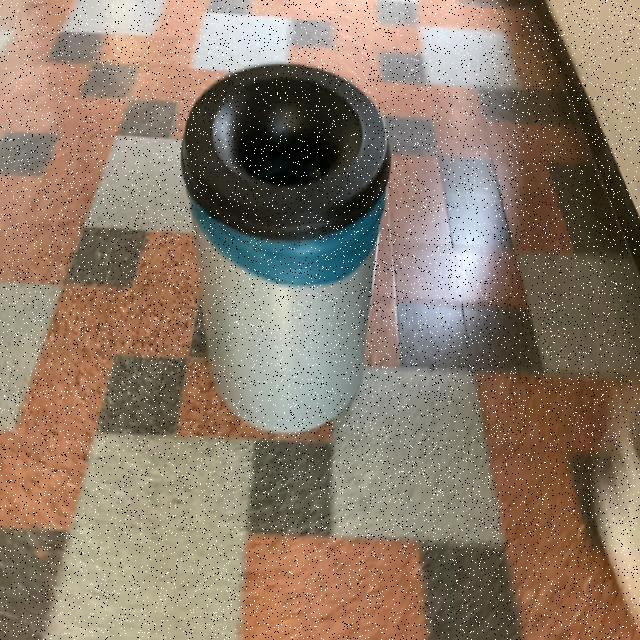garbage container: (172, 54, 401, 462)
